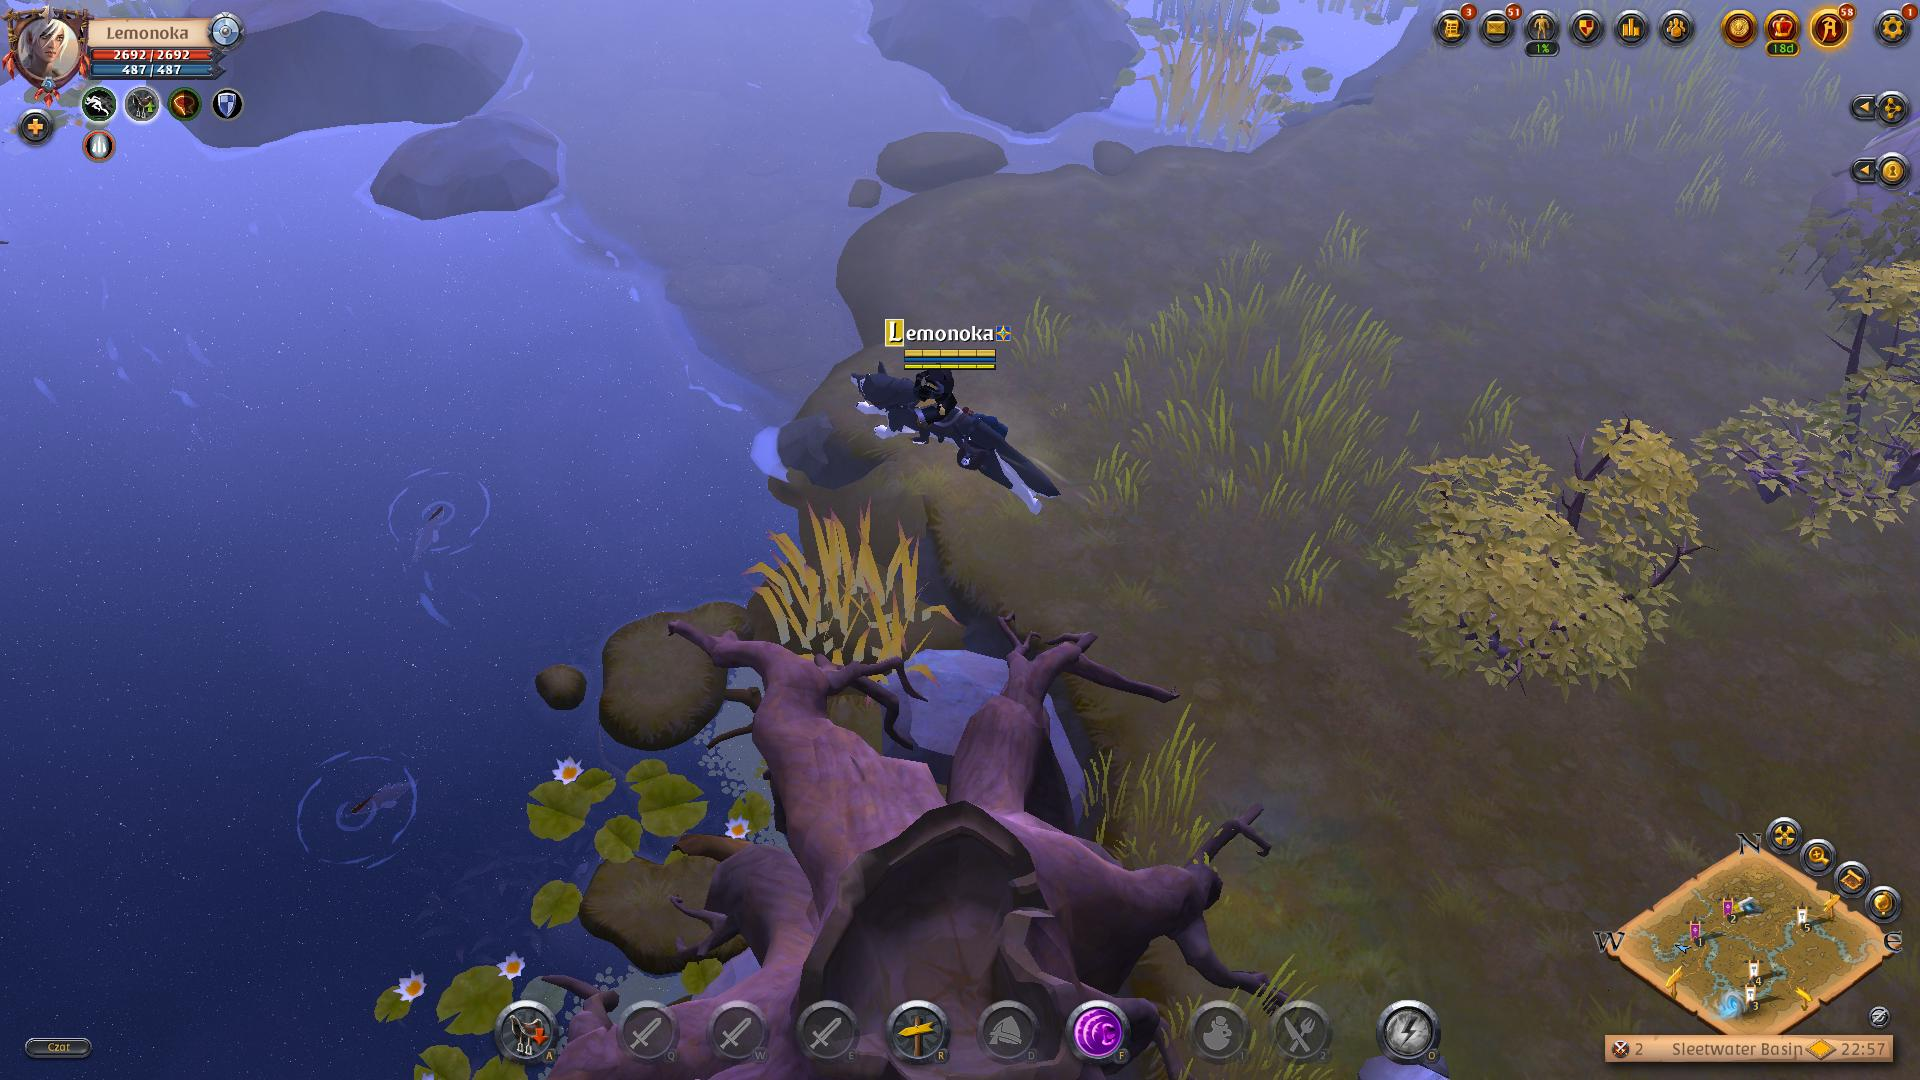fish: (285, 737, 425, 877), (381, 462, 506, 568)
